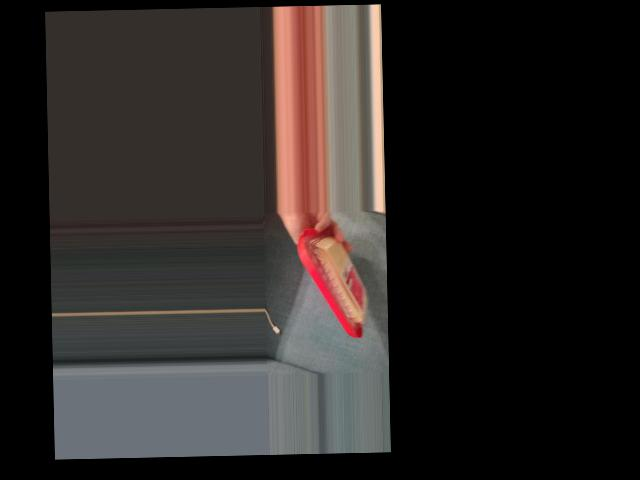cheese: (293, 222, 371, 340)
